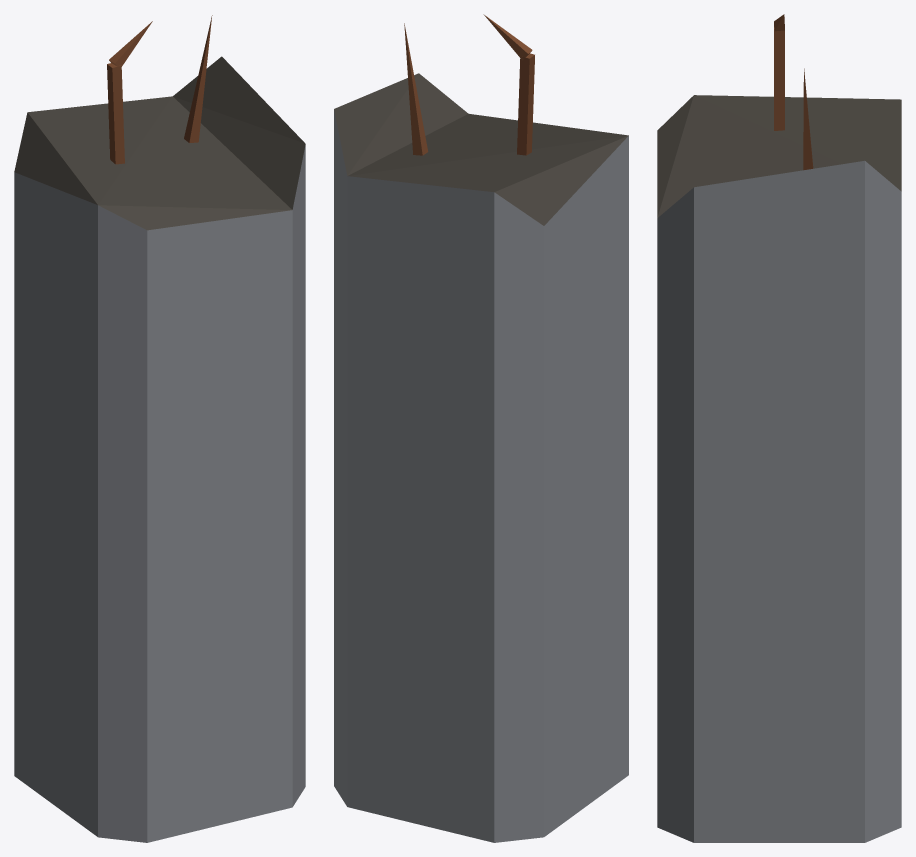
The model's file is SM_Ruin_Pillar.fbx.
The picture shows the model from 3 angles, left to right: view 1: azimuth 30°, elevation 25°; view 2: azimuth 150°, elevation 25°; view 3: azimuth 270°, elevation 25°; orthographic projection.
Parts seen in each view (by area): view 1: SM_Ruin_Pillar; view 2: SM_Ruin_Pillar; view 3: SM_Ruin_Pillar.
Boxes of the visible parts, x1,y1,x2,y2 form: SM_Ruin_Pillar: (14, 15, 305, 842); SM_Ruin_Pillar: (334, 14, 628, 842); SM_Ruin_Pillar: (657, 14, 901, 842).
Bounding box in the file's own units: 1 × 3.5 × 1.
